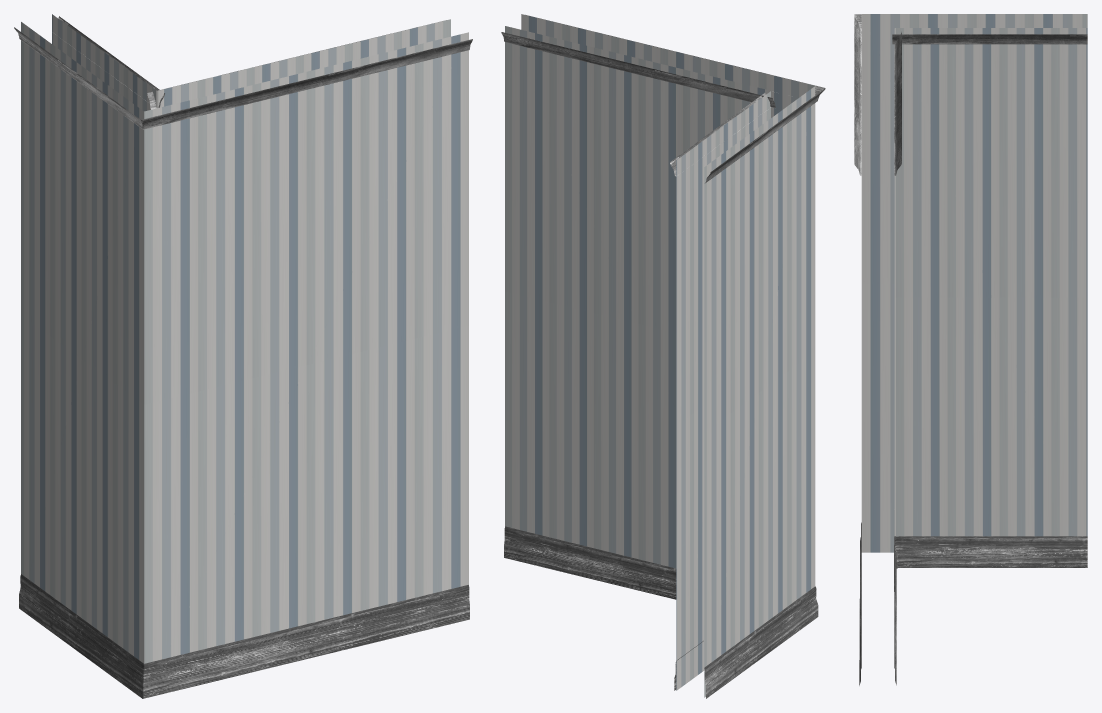
File: SM_Corner_1Floor_Inside_B.fbx
The picture shows the model from 3 angles, left to right: view 1: azimuth 30°, elevation 25°; view 2: azimuth 150°, elevation 25°; view 3: azimuth 270°, elevation 25°; orthographic projection. The views are drawn at different scales.
Parts seen in each view (by area): view 1: SM_Corner_1Floor_Inside_B; view 2: SM_Corner_1Floor_Inside_B; view 3: SM_Corner_1Floor_Inside_B.
Part boxes in pixels (x1=…): SM_Corner_1Floor_Inside_B: x1=14, y1=14, x2=472, y2=698; SM_Corner_1Floor_Inside_B: x1=501, y1=14, x2=825, y2=698; SM_Corner_1Floor_Inside_B: x1=854, y1=14, x2=1087, y2=685.
Size of the model in its own units: 150 by 99.52 by 253.
Materials: 2 (2 with a texture image).
